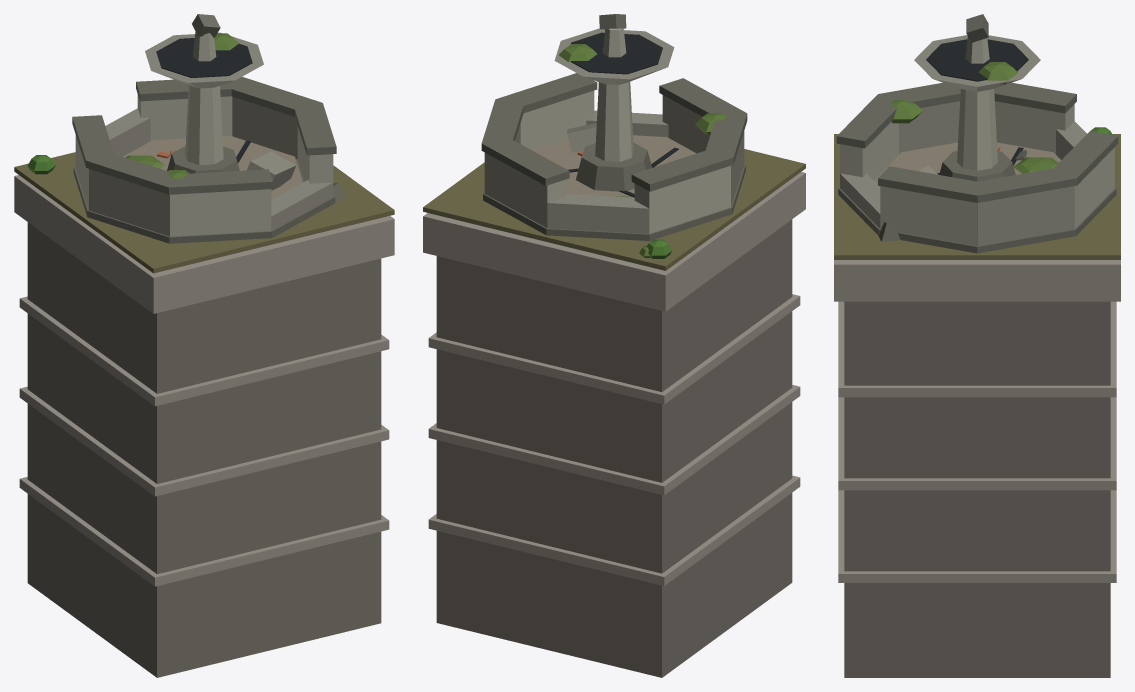
Rendered from decor_dry_fountain.glb.
3 renders of one model, left to right at view 1: azimuth 30°, elevation 25°; view 2: azimuth 150°, elevation 25°; view 3: azimuth 270°, elevation 25°, orthographic. The views are drawn at different scales.
Visible parts, largest first — view 1: decor_dry_fountain; view 2: decor_dry_fountain; view 3: decor_dry_fountain.
Boxes of the visible parts, left/top/right/bottom form: decor_dry_fountain: left=14, top=14, right=394, bottom=677; decor_dry_fountain: left=423, top=14, right=805, bottom=677; decor_dry_fountain: left=834, top=14, right=1120, bottom=677.
Bounding box in the file's own units: 2.8 × 6.52 × 2.8.
